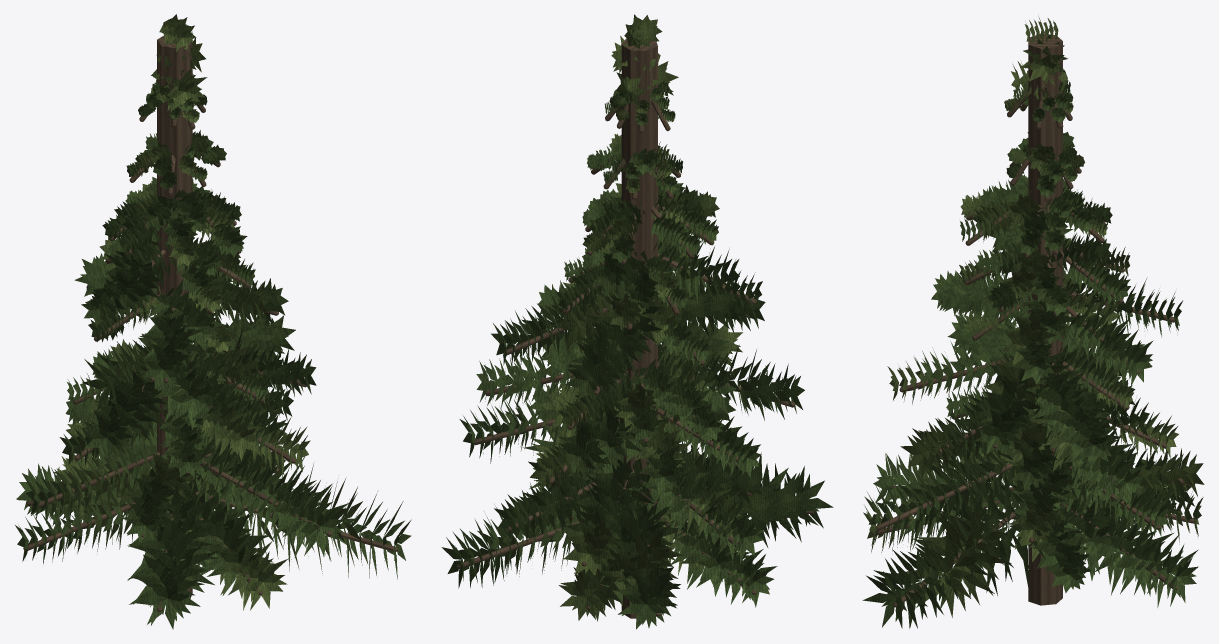
Rendered from pine_b.glb.
3 views of the same model, side by side, from view 1: azimuth 30°, elevation 25°; view 2: azimuth 150°, elevation 25°; view 3: azimuth 270°, elevation 25° (orthographic). The views are drawn at different scales.
Parts seen in each view (by area): view 1: Pine needles, Sunlit pine tips, Dark endgrain; view 2: Pine needles, Sunlit pine tips, Dark endgrain; view 3: Pine needles, Sunlit pine tips, Dark endgrain.
Part boxes in pixels (x1,y1,x2,y2): Pine needles: [15, 81, 411, 629]; Sunlit pine tips: [52, 14, 362, 610]; Dark endgrain: [23, 35, 397, 611]; Pine needles: [441, 80, 833, 629]; Sunlit pine tips: [528, 14, 745, 621]; Dark endgrain: [457, 38, 814, 618]; Pine needles: [862, 75, 1198, 628]; Sunlit pine tips: [863, 16, 1204, 617]; Dark endgrain: [871, 34, 1196, 607].
Bounding box in the file's own units: 1.75 × 3.08 × 1.64.
Materials: 3 (3 with a texture image).
